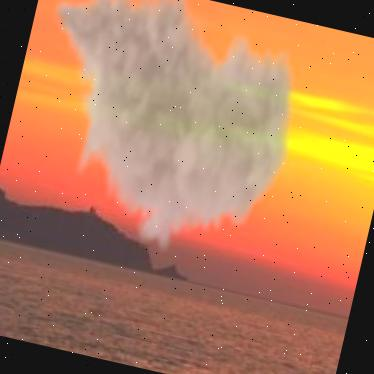smoke: (7, 0, 365, 288)
